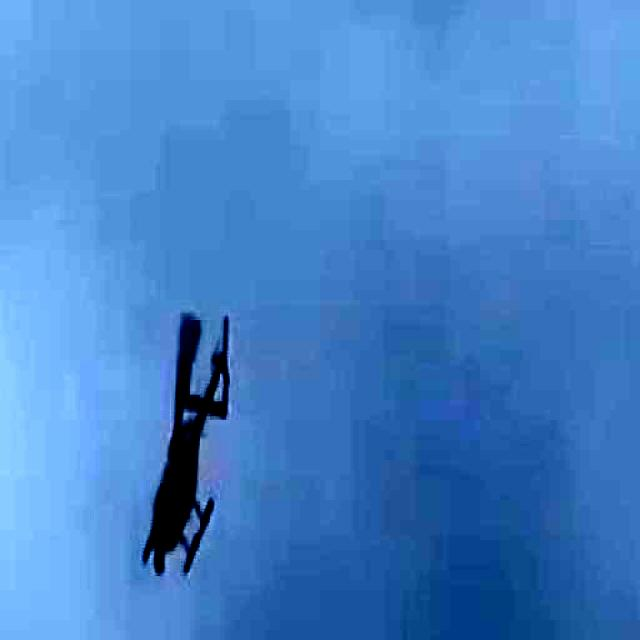drone: (141, 318, 234, 572)
